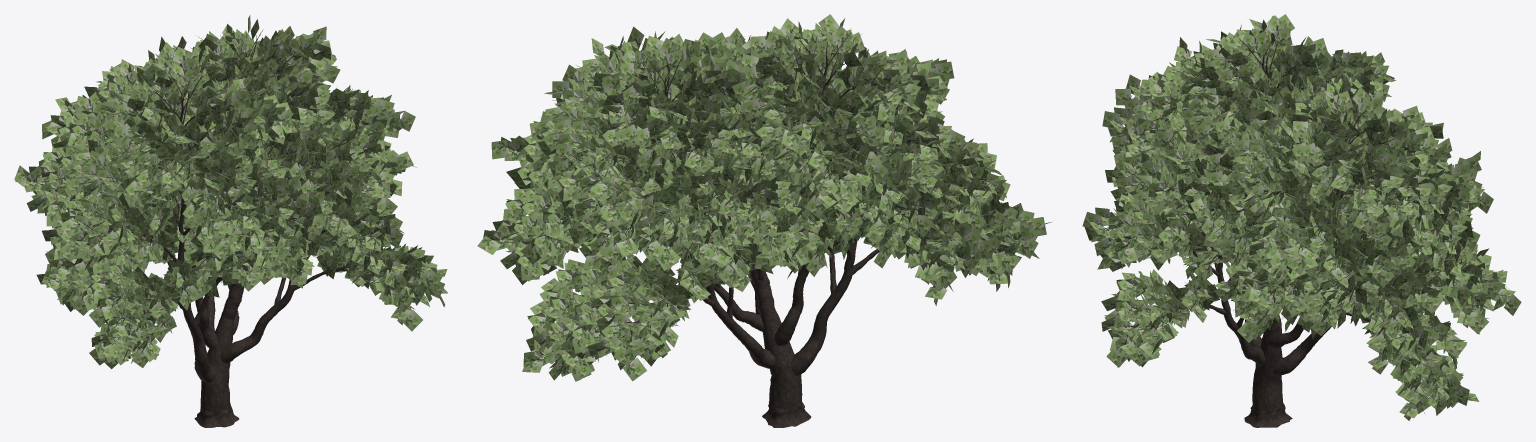
The model's file is FBX_WE17_QuercusAgrifolia_4.fbx.
3 views of the same model, side by side, from view 1: azimuth 30°, elevation 25°; view 2: azimuth 150°, elevation 25°; view 3: azimuth 270°, elevation 25° (orthographic). The views are drawn at different scales.
Parts seen in each view (by area): view 1: Leaf01_4, Bark01_4; view 2: Leaf01_4, Bark01_4; view 3: Leaf01_4, Bark01_4.
Boxes of the visible parts, left/top/right/bottom form: Leaf01_4: left=14, top=15, right=447, bottom=369; Bark01_4: left=26, top=29, right=404, bottom=427; Leaf01_4: left=477, top=14, right=1051, bottom=381; Bark01_4: left=493, top=27, right=1011, bottom=427; Leaf01_4: left=1082, top=14, right=1521, bottom=420; Bark01_4: left=1094, top=31, right=1484, bottom=427.
Bounding box in the file's own units: 2124 × 1816 × 1932.
